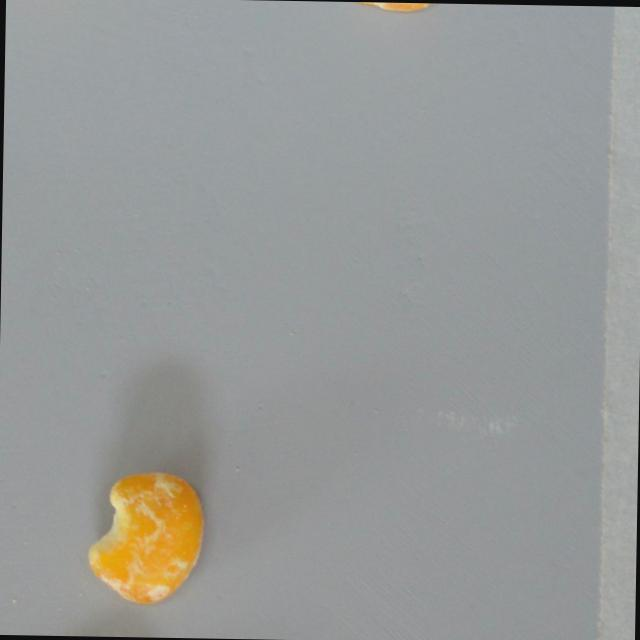pelicula: (78, 465, 208, 610), (352, 1, 452, 15)
